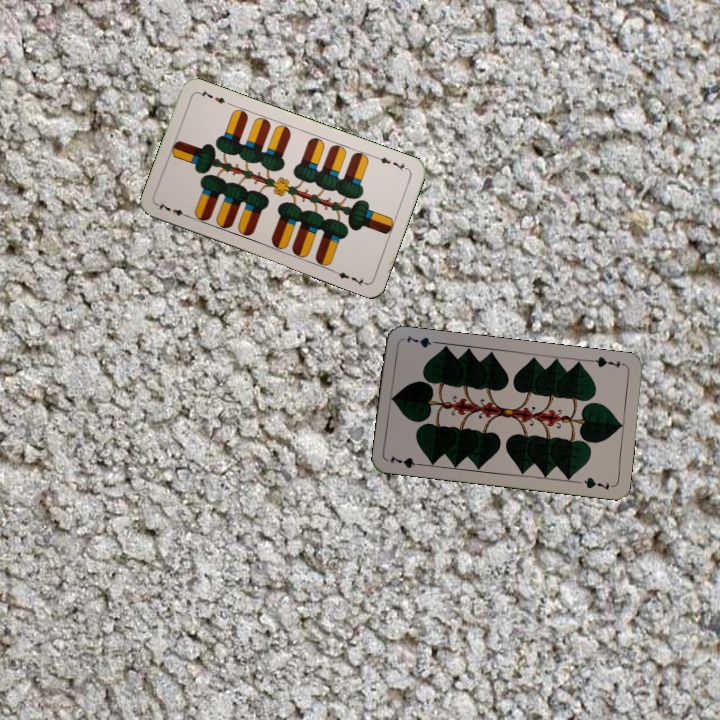E7: (154, 198, 193, 221), (372, 152, 411, 174)
G7: (386, 451, 427, 471), (587, 353, 628, 371)
